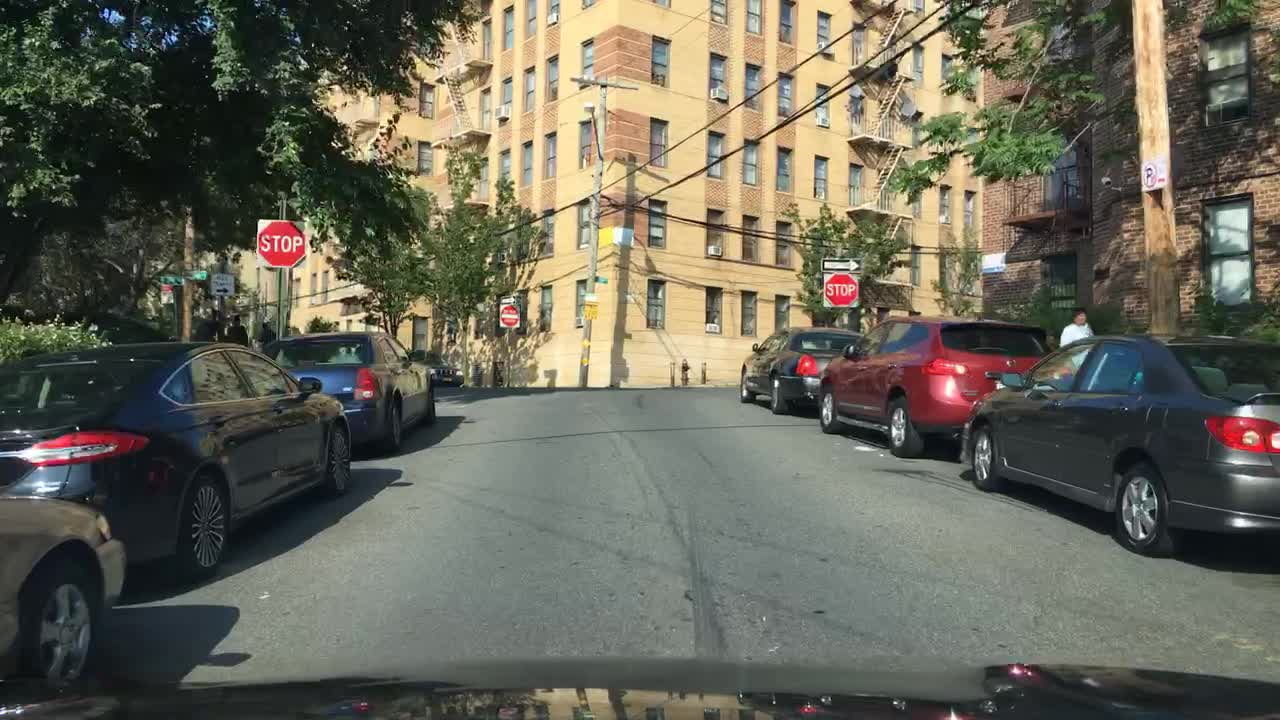car: (0, 345, 355, 585), (959, 334, 1279, 559), (818, 314, 1052, 461), (1, 492, 125, 694), (275, 329, 441, 454), (738, 325, 863, 417), (410, 349, 466, 389)
person: (1060, 311, 1094, 351), (229, 314, 247, 346), (203, 312, 221, 339), (260, 324, 275, 347)
traffic sign: (257, 217, 310, 269), (820, 272, 859, 306), (154, 268, 209, 286), (1139, 164, 1174, 188), (500, 295, 520, 329), (211, 273, 235, 297), (823, 258, 865, 271), (597, 275, 608, 288)
